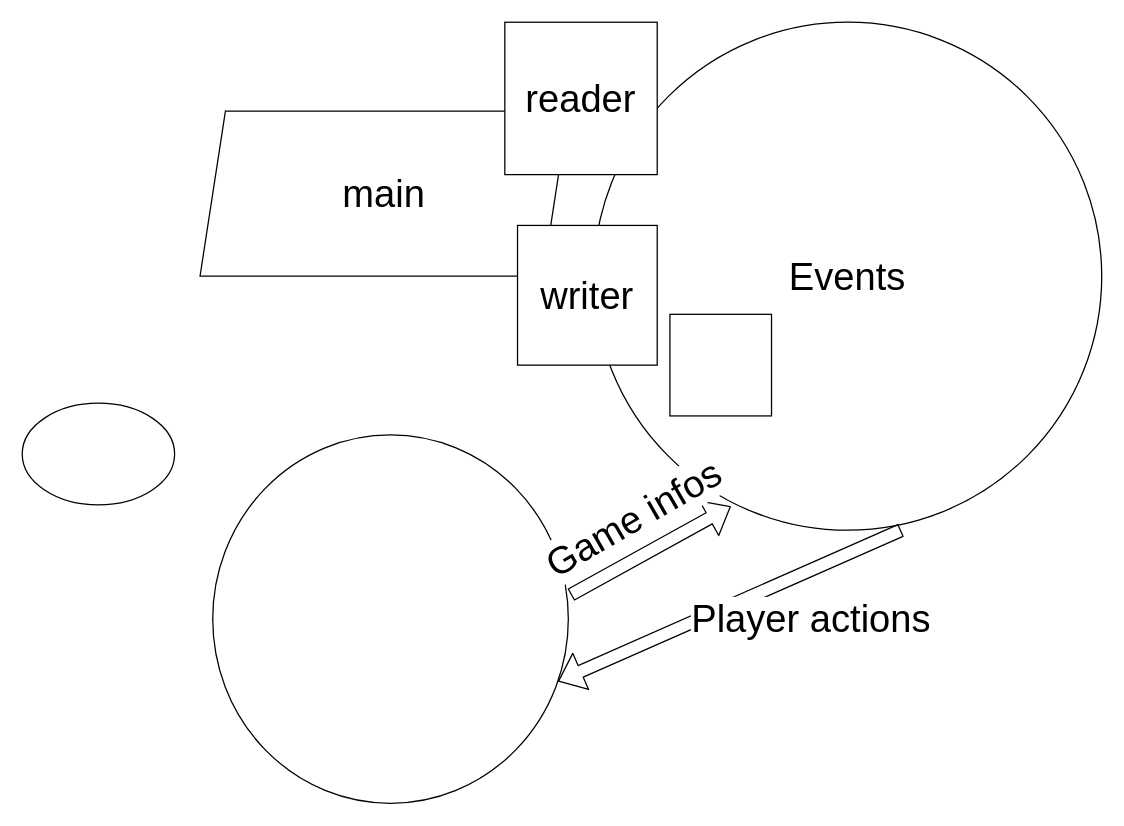
This 1124x826 diagram has some shape labels left out. The shapes that lost their labels are listed below. From the top down, each one's box as (x1, y1, x2, y2) in pixels, then its label:
(669, 313, 772, 416): tokio
(211, 434, 568, 803): GAME
